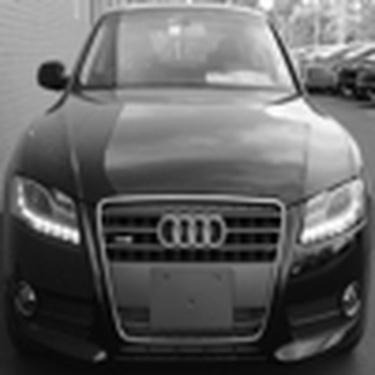car: (4, 1, 363, 354)
